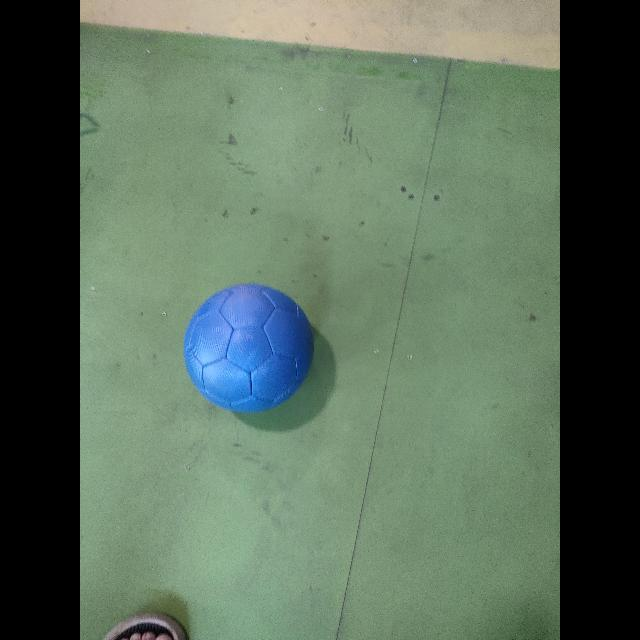B: (184, 284, 314, 412)
